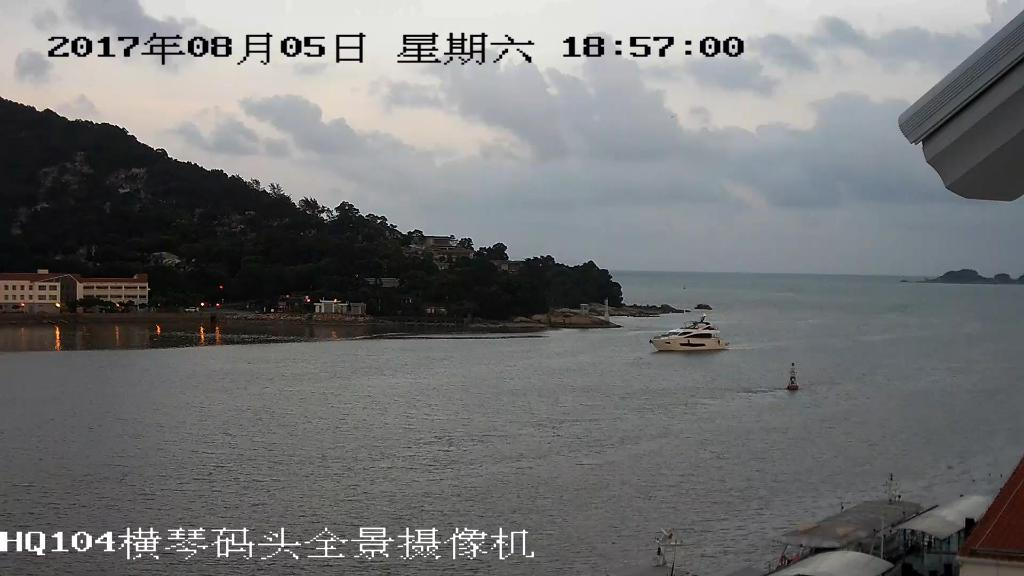PassengerShip: (647, 310, 735, 358)
